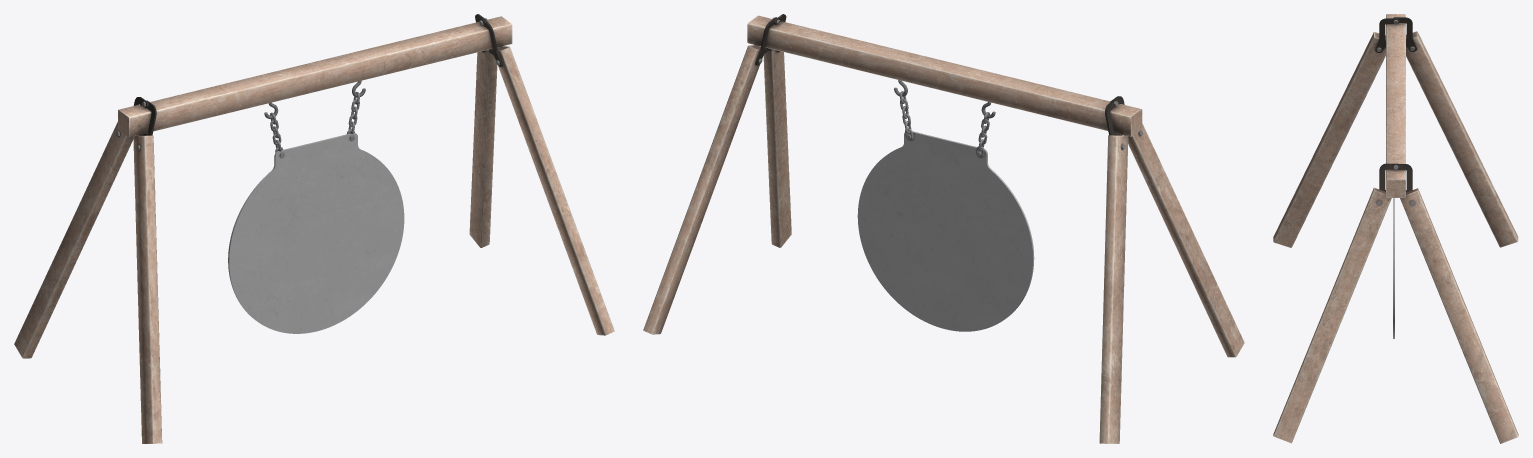
The model's file is target_gong_target.glb.
3 views of the same model, side by side, from view 1: azimuth 30°, elevation 25°; view 2: azimuth 150°, elevation 25°; view 3: azimuth 270°, elevation 25° (orthographic). The views are drawn at different scales.
Visible parts, largest first — view 1: GongTarget_TargetSet02_0; view 2: GongTarget_TargetSet02_0; view 3: GongTarget_TargetSet02_0.
Boxes of the visible parts, left/top/right/bottom form: GongTarget_TargetSet02_0: left=14, top=14, right=614, bottom=443; GongTarget_TargetSet02_0: left=643, top=14, right=1244, bottom=443; GongTarget_TargetSet02_0: left=1273, top=14, right=1518, bottom=443.
Bounding box in the file's own units: 2.44 × 1.43 × 1.25.
1 material, 1 textured.
